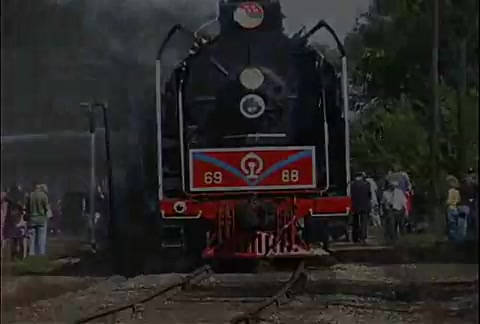train: (115, 4, 358, 262)
